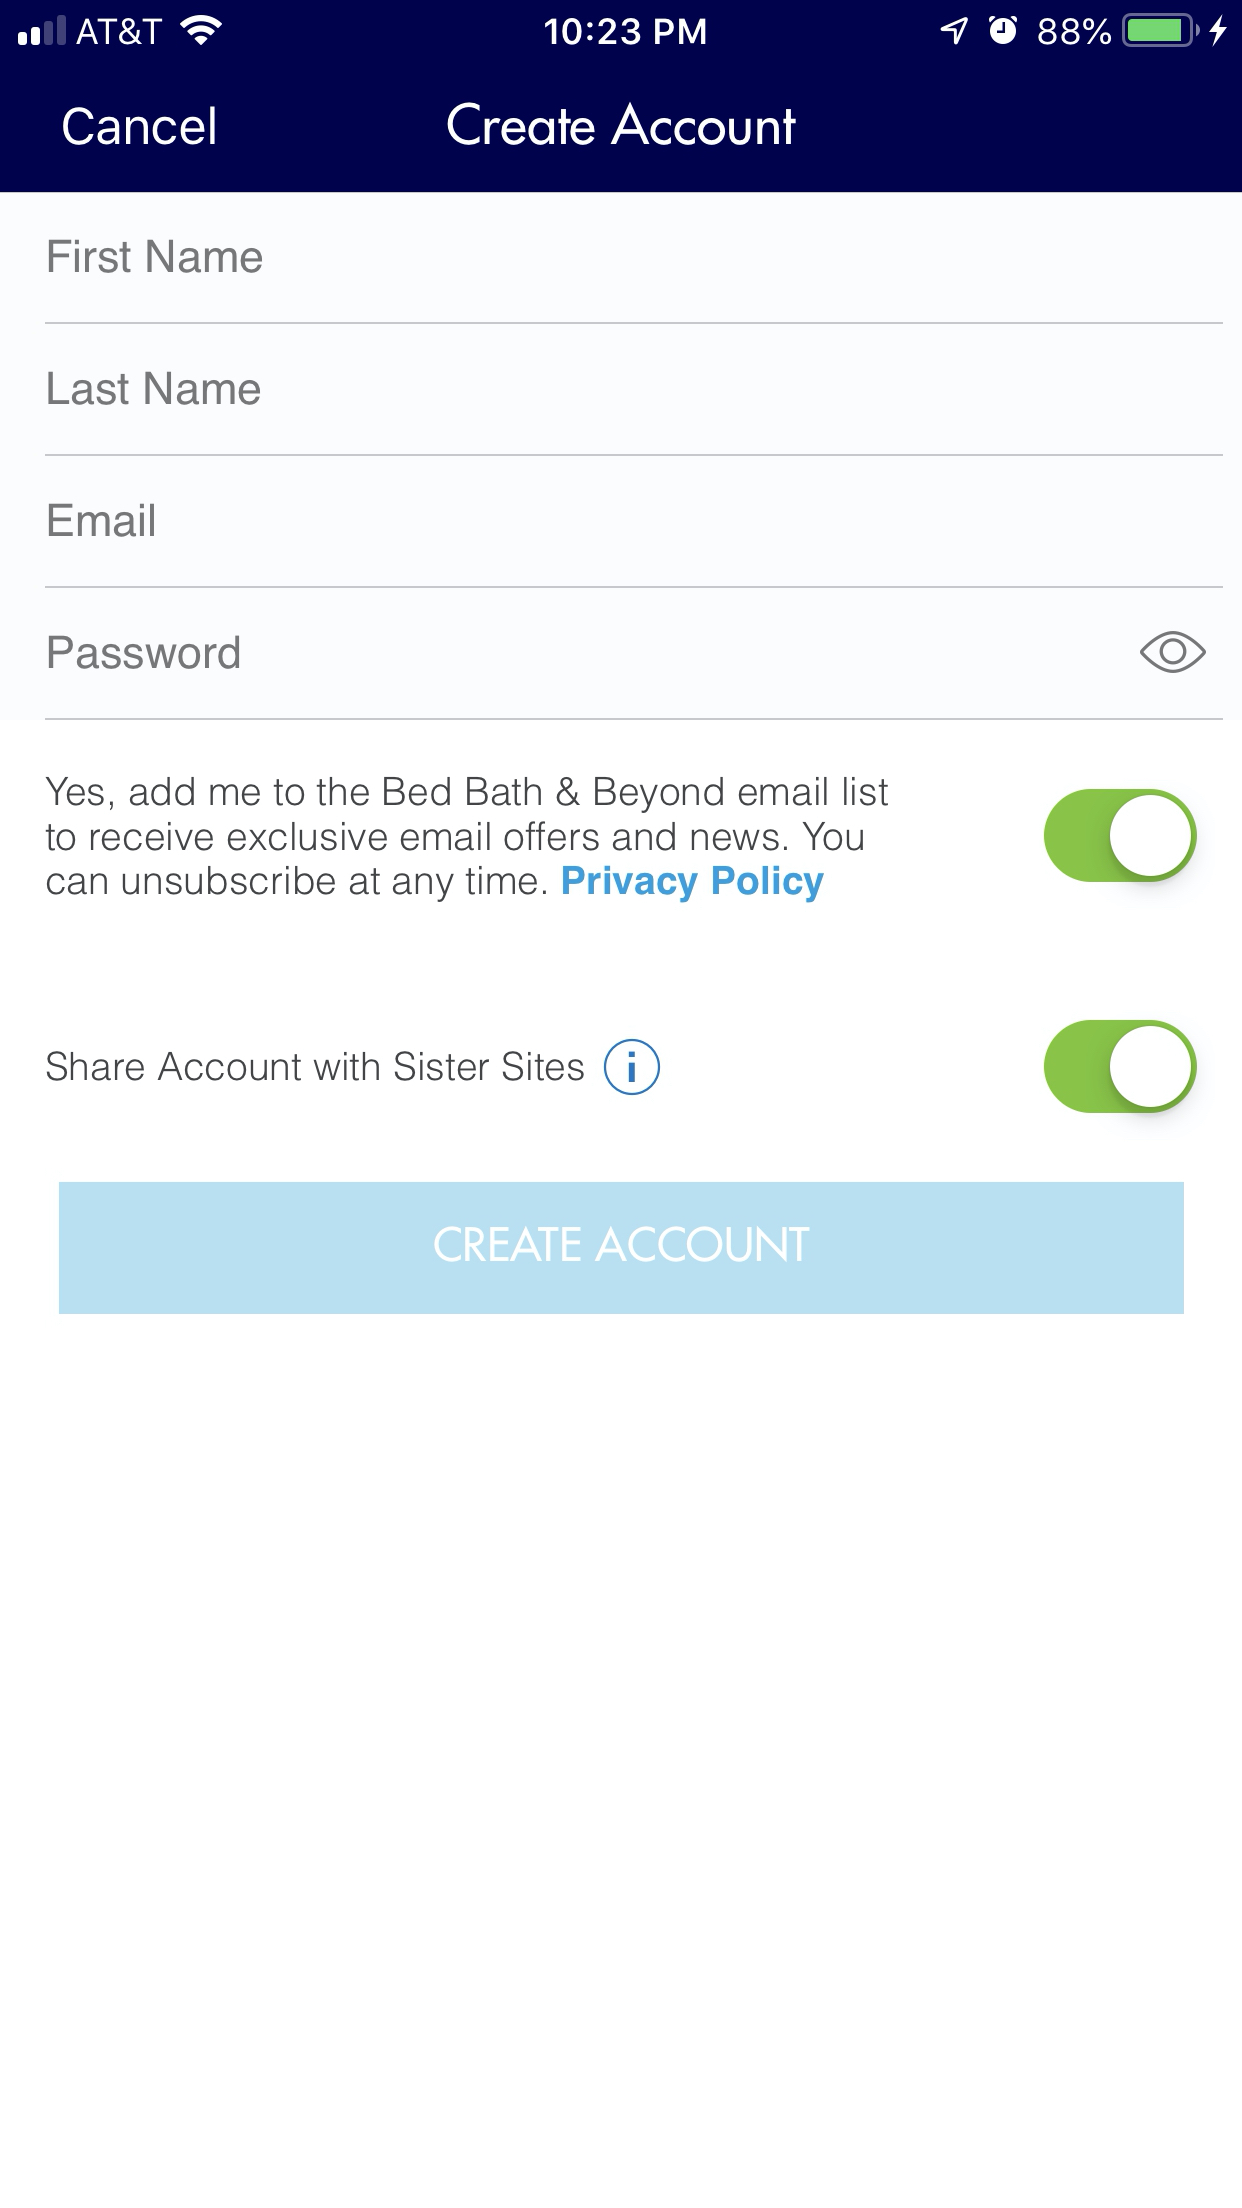EditText: (45, 631, 1224, 722), (45, 503, 1224, 590), (45, 372, 1224, 458), (45, 240, 1224, 326)
Icon: (604, 1037, 661, 1096), (1139, 631, 1207, 675)
Switch: (1043, 1019, 1198, 1115), (1043, 789, 1198, 883)
Text: (45, 776, 889, 902), (47, 1049, 585, 1081), (447, 102, 798, 147), (49, 240, 265, 274), (49, 372, 262, 406), (49, 635, 241, 670), (64, 108, 217, 147), (49, 503, 156, 538)
TextButton: (59, 1181, 1184, 1315)
UpperTaskBar: (2, 2, 1242, 49)
